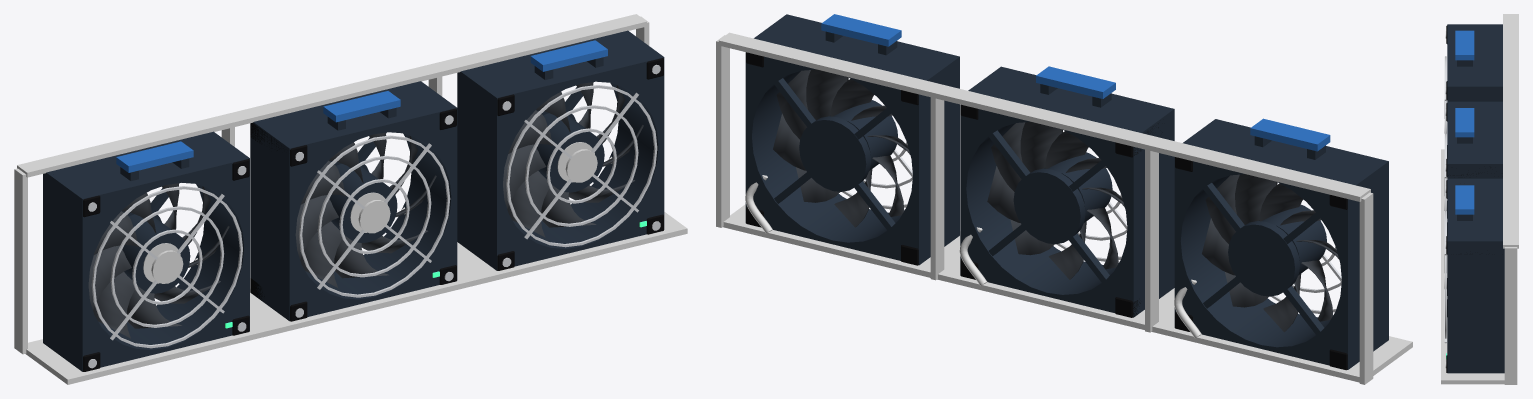
File: hwm_cool_alu_tower.glb
The picture shows the model from 3 angles, left to right: view 1: azimuth 30°, elevation 25°; view 2: azimuth 150°, elevation 25°; view 3: azimuth 270°, elevation 25°; orthographic projection. The views are drawn at different scales.
Visible parts, largest first — view 1: Body, Rotor_Z_2, Rotor_Z_0, Rotor_Z_1; view 2: Body, Rotor_Z_1, Rotor_Z_2, Rotor_Z_0; view 3: Body.
Boxes of the visible parts, left/top/right/bottom form: Body: left=14, top=14, right=687, bottom=384; Rotor_Z_2: left=503, top=82, right=643, bottom=237; Rotor_Z_0: left=88, top=183, right=229, bottom=338; Rotor_Z_1: left=295, top=132, right=436, bottom=287; Body: left=716, top=14, right=1412, bottom=384; Rotor_Z_1: left=987, top=122, right=1124, bottom=279; Rotor_Z_2: left=773, top=69, right=910, bottom=227; Rotor_Z_0: left=1202, top=174, right=1338, bottom=332; Body: left=1441, top=14, right=1518, bottom=384.
Bounding box in the file's own units: 0.3478 × 0.1033 × 0.049.
